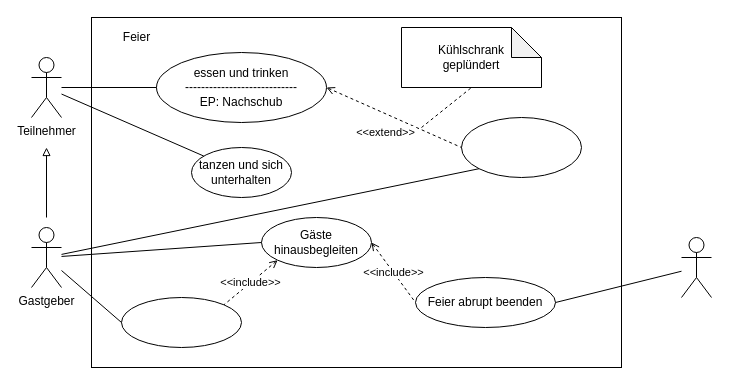
The diagram is 731 pixels wide and 385 high, and some of its shapes have lost their labels. The centre of each missing label's shape, as x and y in pixels:
Feier auflösen: (181,322)
Nachschub ordern: (521,147)
Polizei: (696,267)
